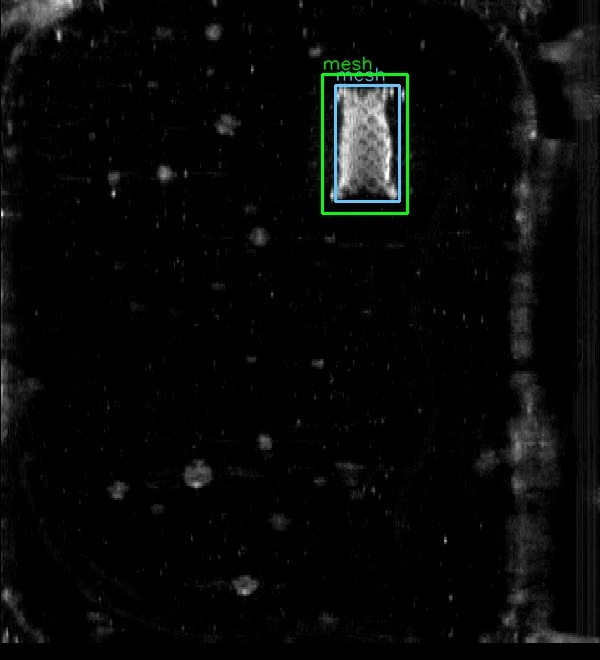mesh: (335, 85, 399, 201)
